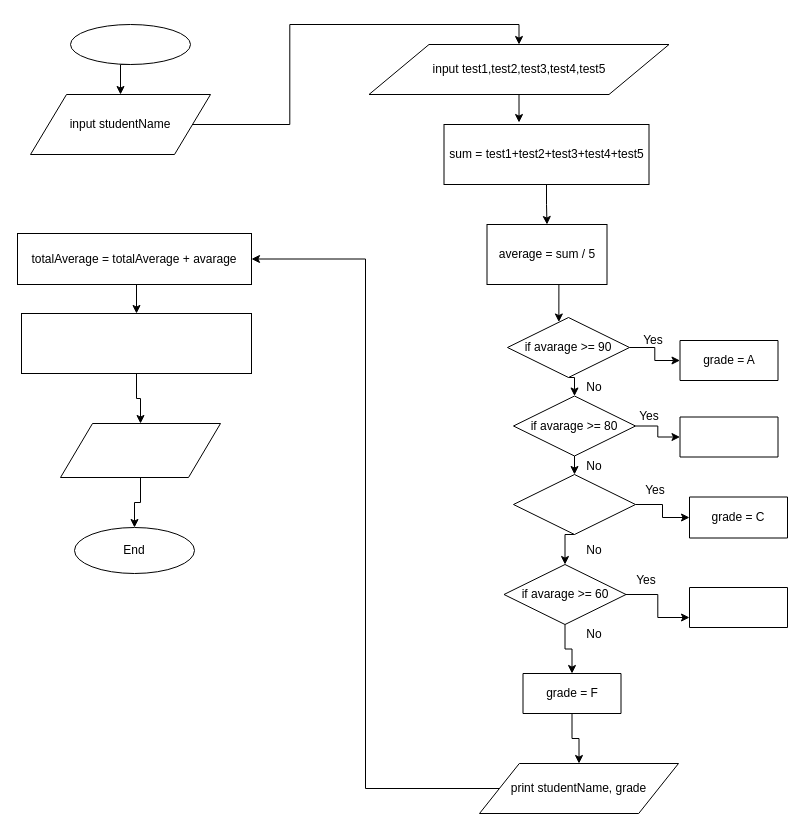
Image size: 805x831. Some labels were removed from this diagram. Each missing label, with the centre of its shape:
"classAverage = totalAverage / 10" goes at pixel 136 343.
"grade = B" goes at pixel 728 436.
"grade = D" goes at pixel 738 607.
"if avarage >= 70" goes at pixel 574 504.
"print classAverage" goes at pixel 140 450.
"Start" goes at pixel 130 44.
